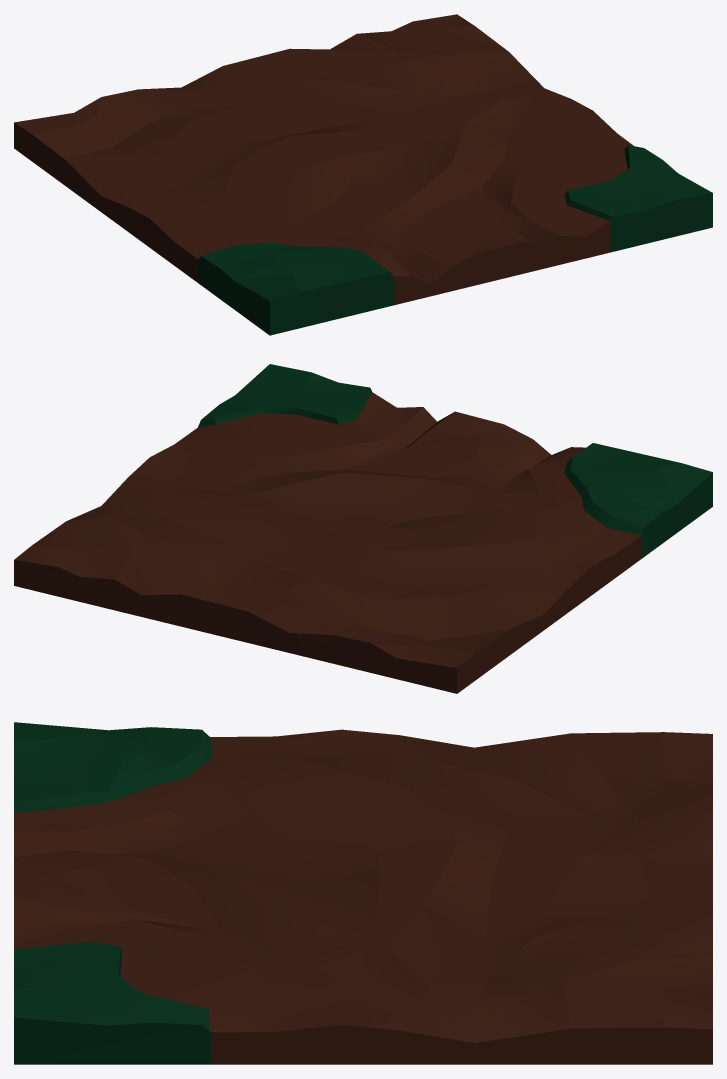
Rendered from Ground_Road_Entrance_B.fbx.
3 renders of one model, top to bottom at view 1: azimuth 30°, elevation 25°; view 2: azimuth 150°, elevation 25°; view 3: azimuth 270°, elevation 25°, orthographic. The views are drawn at different scales.
Parts seen in each view (by area): view 1: Ground_Road_Entrance_B; view 2: Ground_Road_Entrance_B; view 3: Ground_Road_Entrance_B.
Boxes of the visible parts, <box> form: Ground_Road_Entrance_B: <box>14,14,712,335</box>; Ground_Road_Entrance_B: <box>14,364,712,693</box>; Ground_Road_Entrance_B: <box>14,722,712,1064</box>.
Bounding box in the file's own units: 147 × 12.96 × 147.
